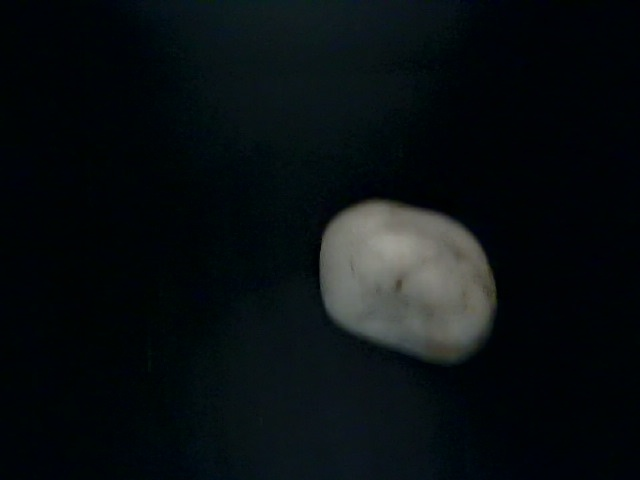QTLJ: (329, 256, 526, 480)
